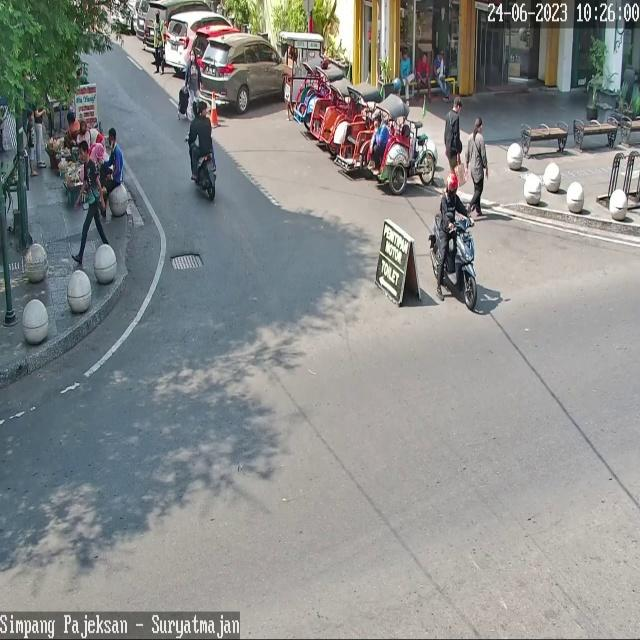bus: (432, 211, 476, 308), (194, 149, 219, 203)
motorcycle: (201, 34, 284, 114), (164, 9, 233, 67), (144, 0, 212, 54), (190, 25, 242, 59)
